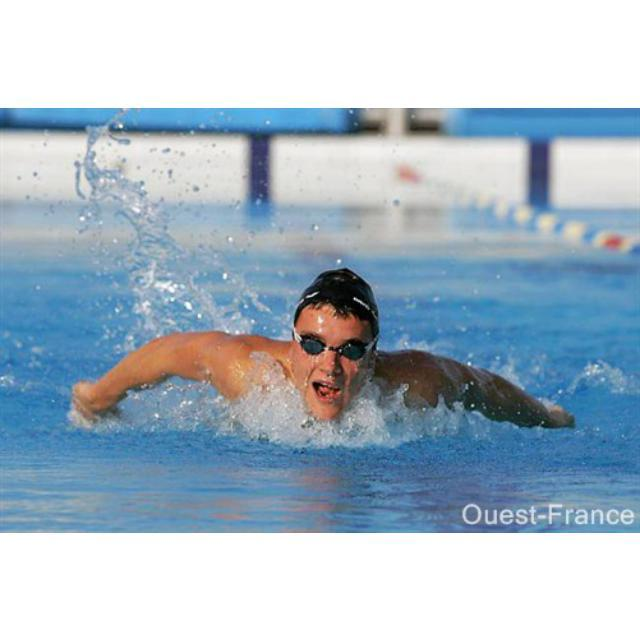human: (70, 269, 579, 438)
